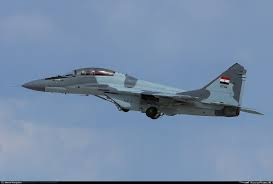fighter: (21, 60, 264, 120)
